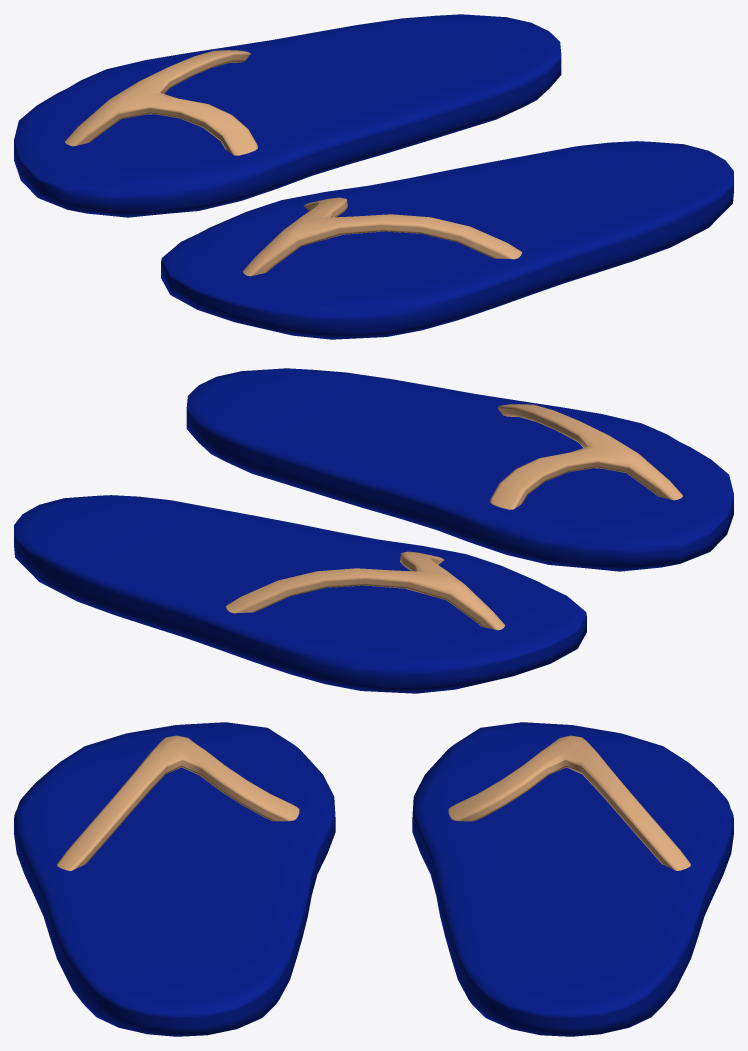
File: Flipflops.fbx
3 renders of one model, top to bottom at view 1: azimuth 30°, elevation 25°; view 2: azimuth 150°, elevation 25°; view 3: azimuth 270°, elevation 25°, orthographic. The views are drawn at different scales.
Parts seen in each view (by area): view 1: Flip_flop; view 2: Flip_flop; view 3: Flip_flop.
Part boxes in pixels (bbox=[...]): Flip_flop: bbox=[14, 14, 733, 339]; Flip_flop: bbox=[14, 368, 733, 693]; Flip_flop: bbox=[14, 722, 733, 1036].
Bounding box in the file's own units: 4.18 × 0.5377 × 4.36.
